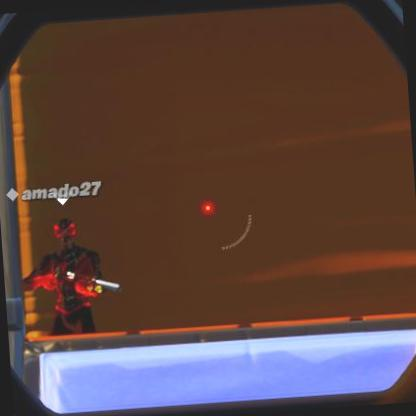person: (35, 218, 97, 331)
